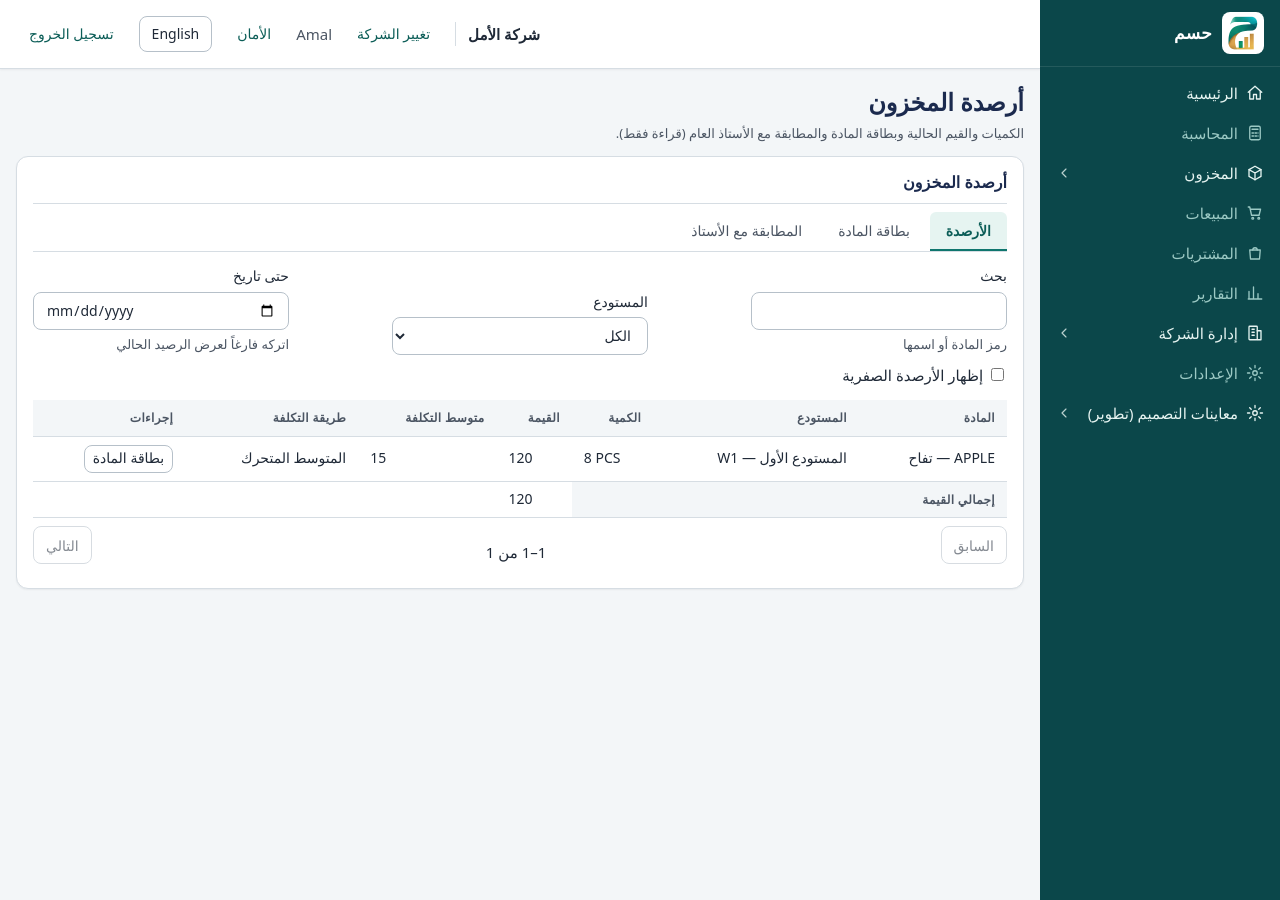
Test: stock balances › opens the item ledger from a balance row with opening, movements and closing
Expected: the element with test id "company-name" is shown, [455,22,540,46]
Step 1. Click the button "بطاقة المادة" → (128, 458), box [84,444,173,472]
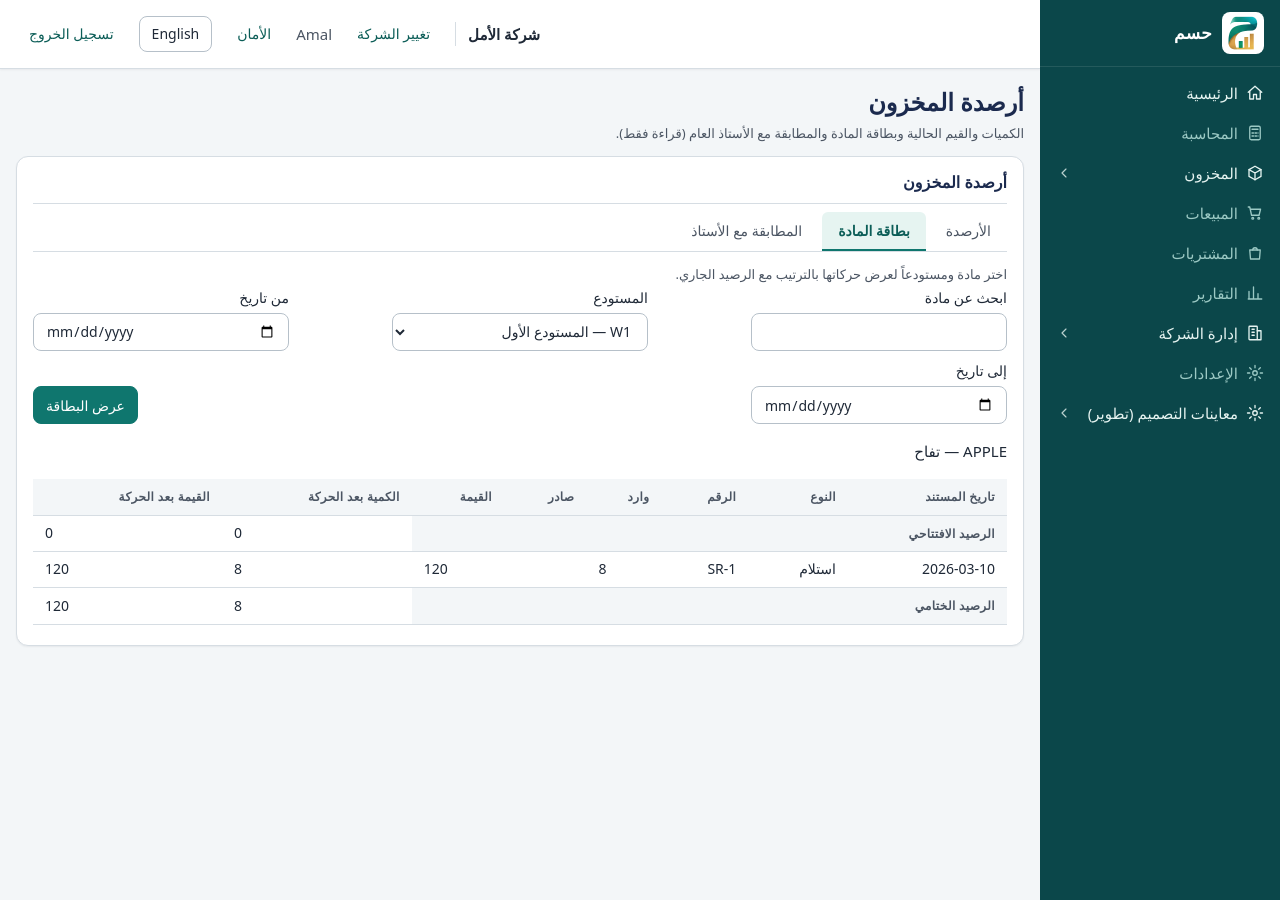
Result: the row with test id "ledger-row-1" shows "SR-1" at [707,559,736,578]
Result: the row with test id "ledger-opening" is shown at [33,516,1007,552]
Result: the row with test id "ledger-closing" shows "120" at [45,596,69,615]
